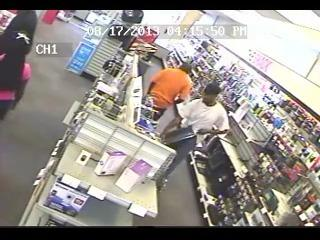shoplifting: (161, 79, 231, 181)
